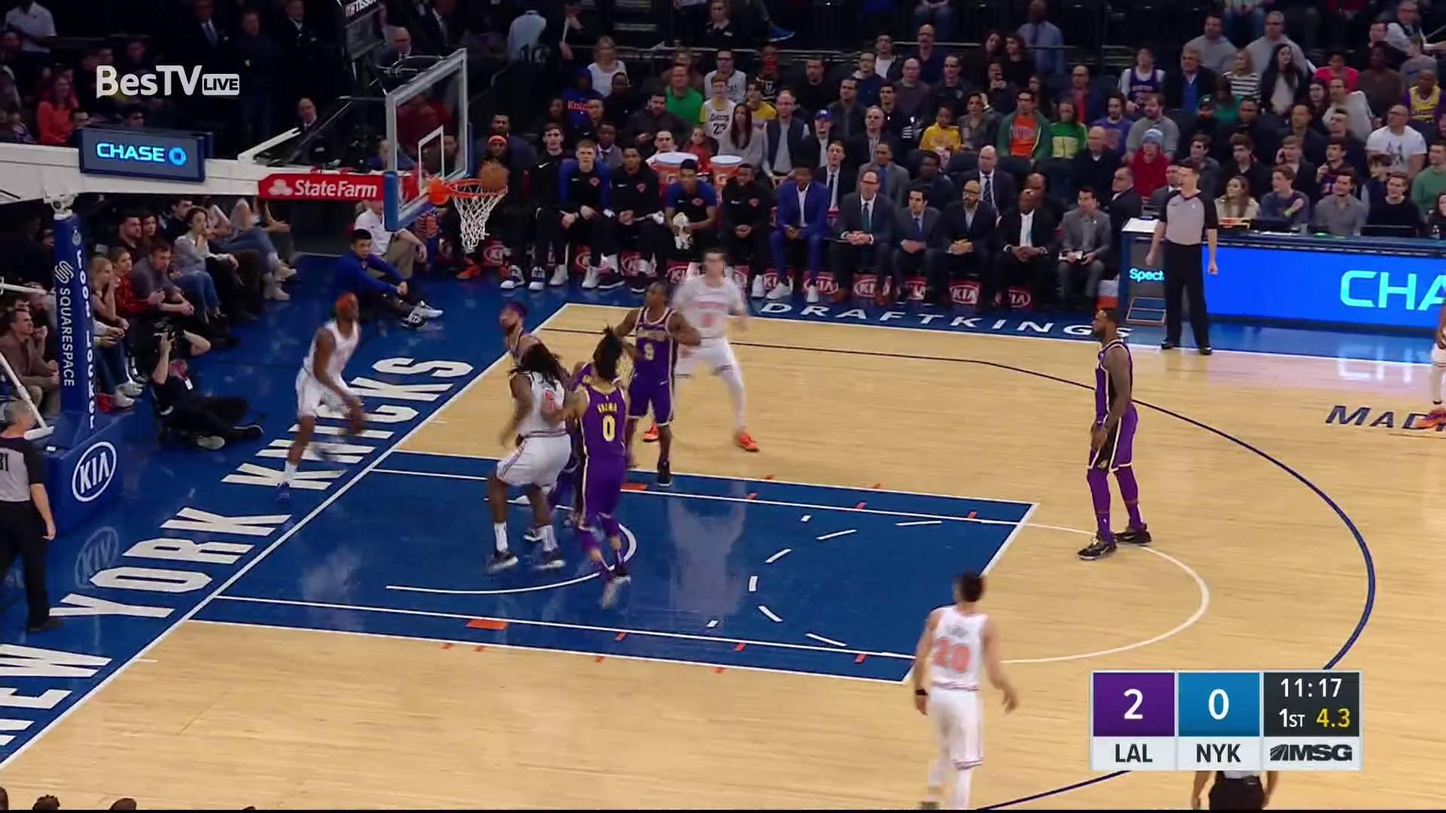basketball: (480, 161, 511, 192)
